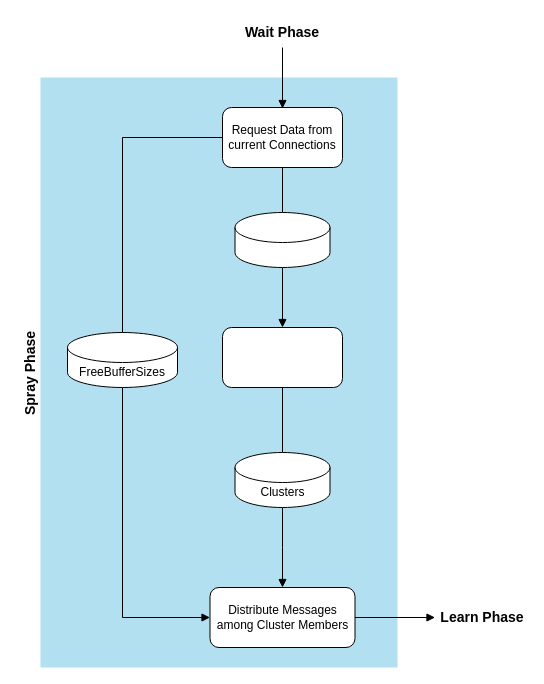
Image size: 544x684. Some labels were removed from this diagram. Here are the shapes that lost their labels. From the top down, the centre of each, then its label:
At point 282,240: "Velocities".
At point 282,357: "Perform Cluster Analysis".
